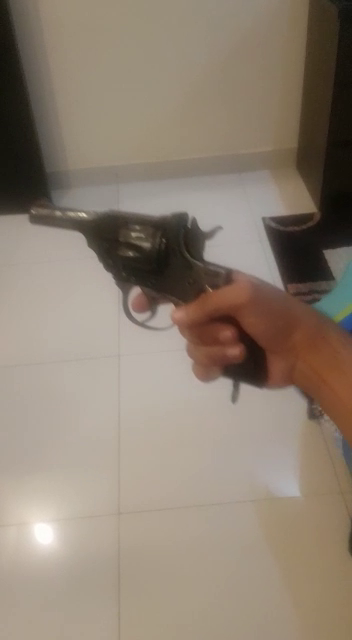handgun: (25, 193, 352, 458)
